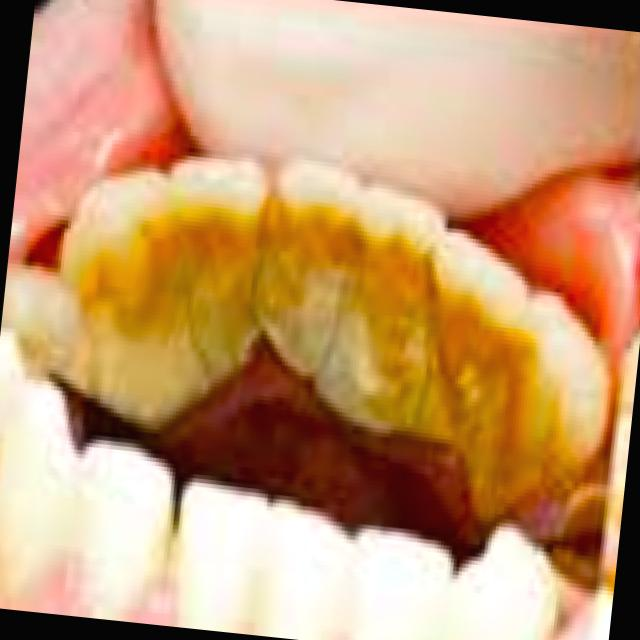calculus: (82, 182, 264, 434), (254, 220, 391, 407), (456, 362, 616, 522), (369, 277, 512, 448), (22, 254, 90, 382)
